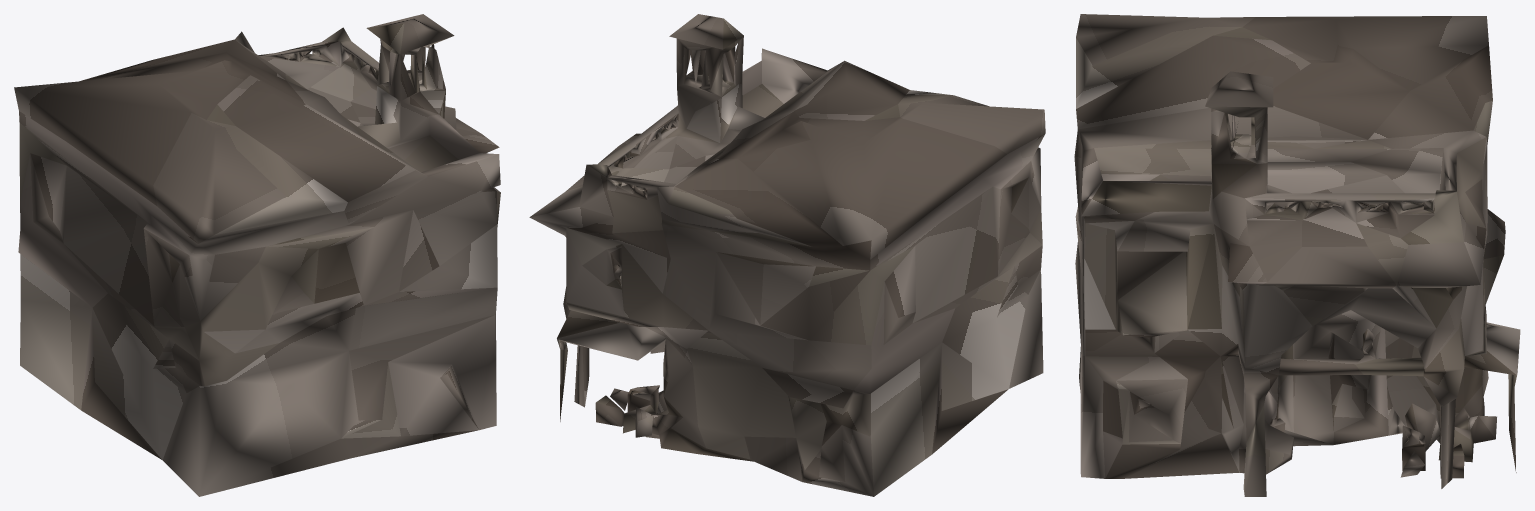
Rendered from house_merchant_2_lo.glb.
3 renders of one model, left to right at view 1: azimuth 30°, elevation 25°; view 2: azimuth 150°, elevation 25°; view 3: azimuth 270°, elevation 25°, orthographic. The views are drawn at different scales.
Parts seen in each view (by area): view 1: tripo_node_85479c51-2ba2-4342-b6e5-ea57296c1e8c; view 2: tripo_node_85479c51-2ba2-4342-b6e5-ea57296c1e8c; view 3: tripo_node_85479c51-2ba2-4342-b6e5-ea57296c1e8c.
Part boxes in pixels (x1,y1,x2,y2): tripo_node_85479c51-2ba2-4342-b6e5-ea57296c1e8c: (14,14,500,496); tripo_node_85479c51-2ba2-4342-b6e5-ea57296c1e8c: (529,14,1045,496); tripo_node_85479c51-2ba2-4342-b6e5-ea57296c1e8c: (1074,14,1520,496).
Size of the model in its own units: 0.9579 by 0.8829 by 0.908.
1 material, 1 textured.
